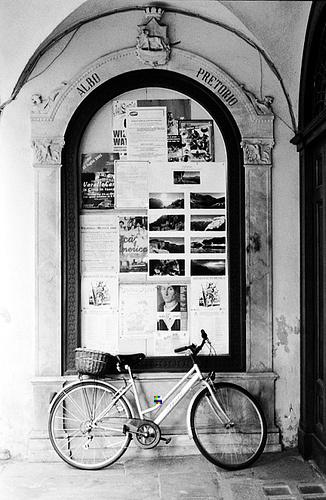car: (48, 330, 268, 471)
